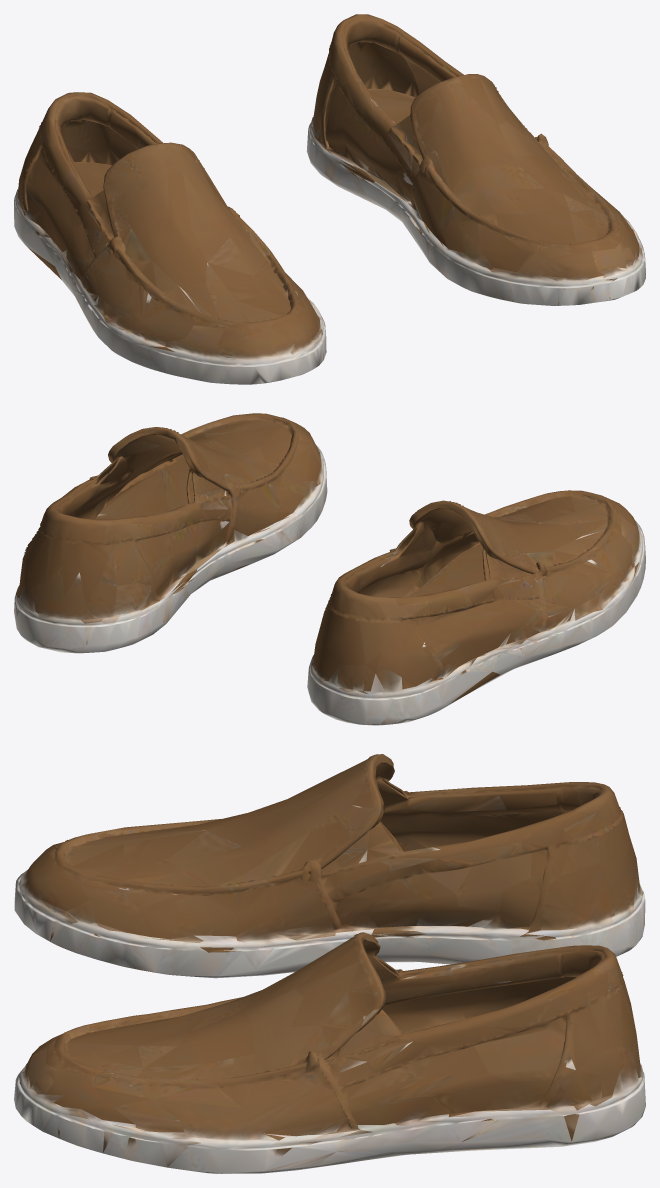
File: shoes_loafers.glb
3 views of the same model, one above another, from view 1: azimuth 30°, elevation 25°; view 2: azimuth 150°, elevation 25°; view 3: azimuth 270°, elevation 25° (orthographic). The views are drawn at different scales.
Visible parts, largest first — view 1: loafers; view 2: loafers; view 3: loafers.
Boxes of the visible parts, x1,y1,x2,y2 form: loafers: (14,14,645,384); loafers: (14,413,645,725); loafers: (14,754,645,1173).
Bounding box in the file's own units: 0.3124 × 0.0858 × 0.2775.
Materials: 1 (1 with a texture image).
